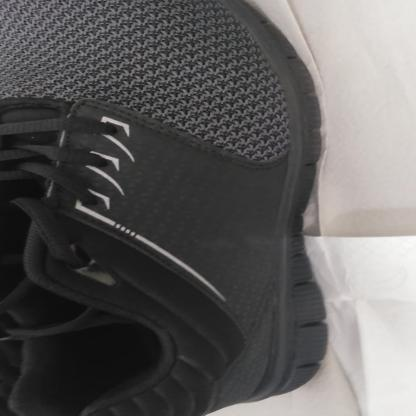safety-shoe: (3, 0, 326, 416)
